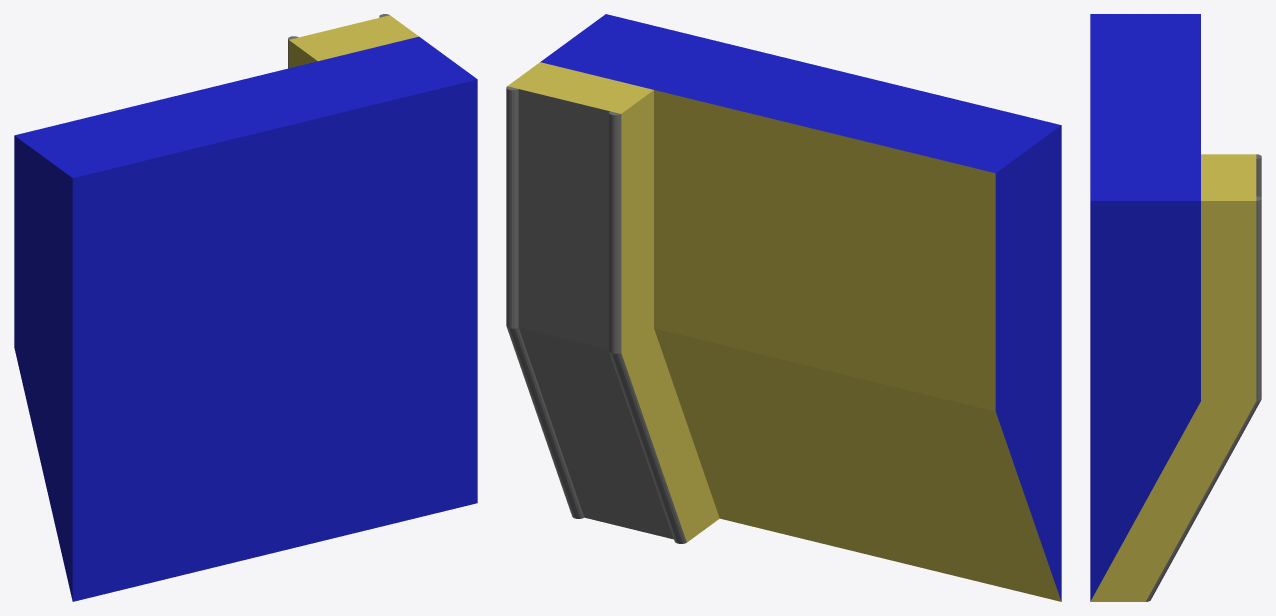
The model's file is Box (Half) W Box-Rail Left.fbx.
3 renders of one model, left to right at view 1: azimuth 30°, elevation 25°; view 2: azimuth 150°, elevation 25°; view 3: azimuth 270°, elevation 25°, orthographic. The views are drawn at different scales.
Visible parts, largest first — view 1: Box (Half) W Box-Rail Left; view 2: Box (Half) W Box-Rail Left; view 3: Box (Half) W Box-Rail Left.
Part boxes in pixels (bbox=[...]): Box (Half) W Box-Rail Left: bbox=[14, 14, 477, 601]; Box (Half) W Box-Rail Left: bbox=[506, 14, 1061, 601]; Box (Half) W Box-Rail Left: bbox=[1090, 14, 1261, 601].
Size of the model in its own units: 800 by 800 by 310.
